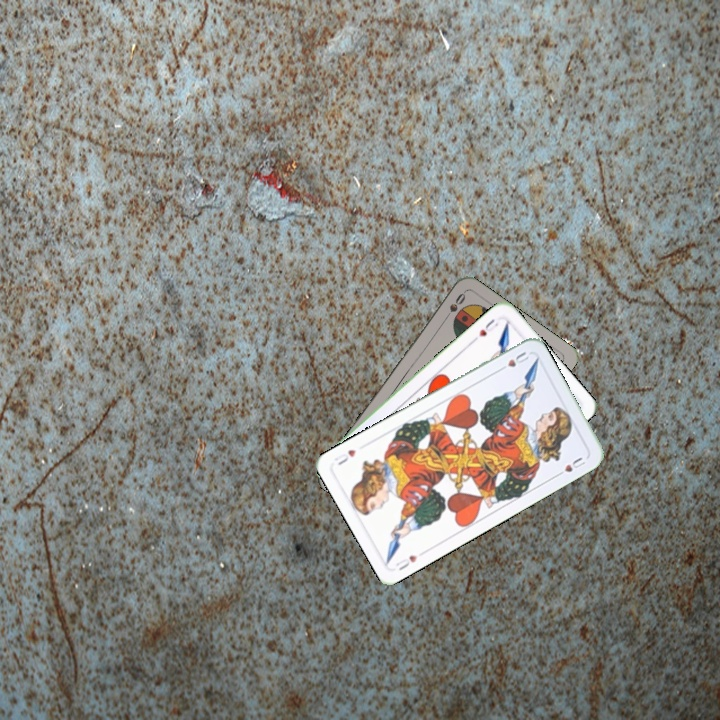HU: (494, 347, 532, 374), (475, 315, 501, 340), (392, 551, 420, 573)
SO: (439, 289, 468, 324)
